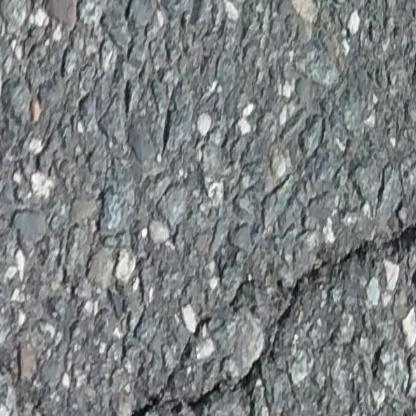Cracks: (231, 180, 416, 416), (80, 314, 216, 416), (182, 372, 227, 416)
